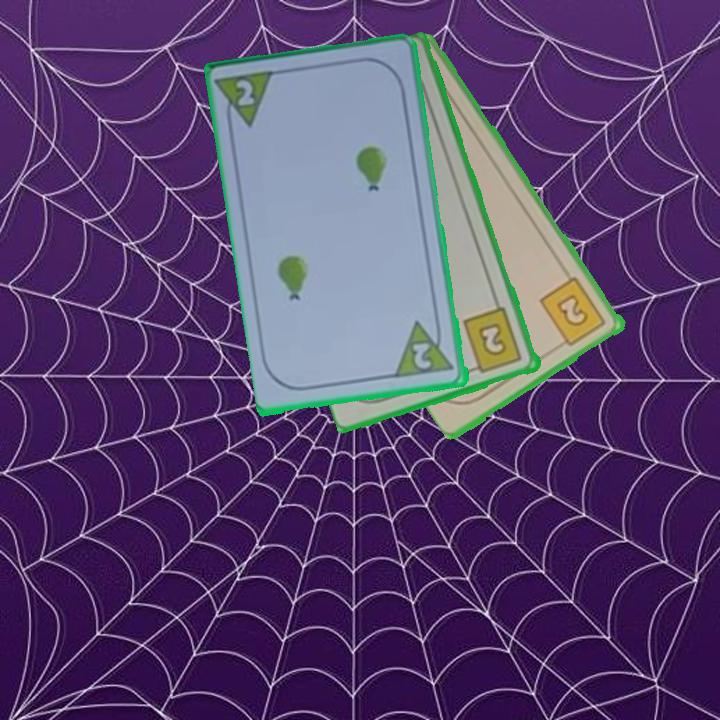2b: (536, 274, 610, 352), (460, 304, 526, 377)
2p: (393, 316, 458, 381), (232, 76, 258, 110)
